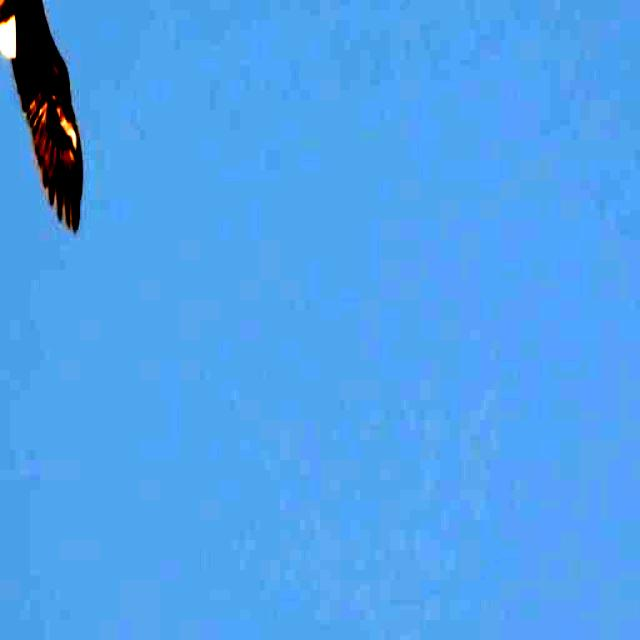airplane: (0, 0, 89, 230)
